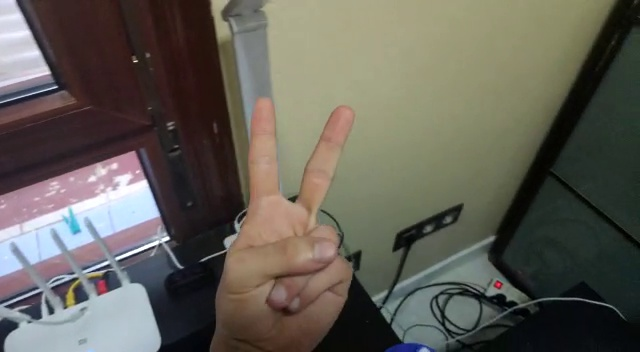Peace: (207, 96, 359, 350)
